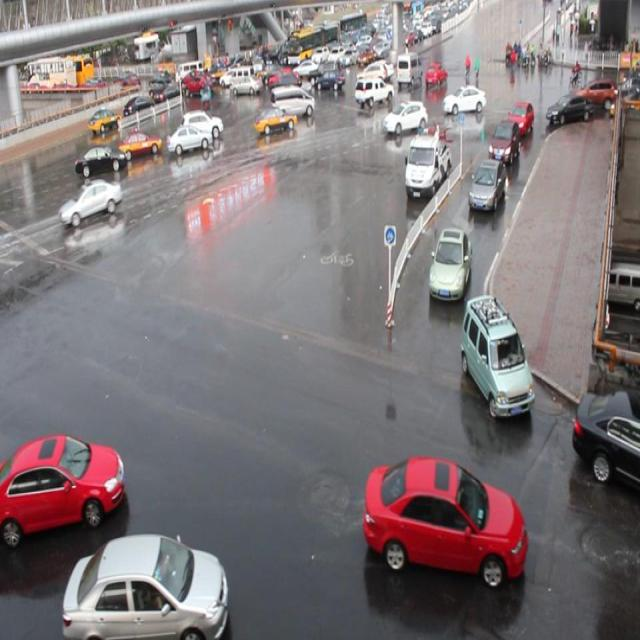bus: (403, 129, 450, 202)
car: (362, 453, 527, 585), (62, 531, 228, 640), (0, 432, 124, 540), (459, 294, 534, 416), (569, 388, 640, 493), (428, 225, 472, 300), (59, 178, 122, 226), (467, 156, 505, 211), (73, 144, 128, 177), (442, 85, 487, 118), (384, 99, 426, 134), (166, 125, 213, 156), (487, 120, 519, 164), (119, 129, 162, 160), (181, 110, 224, 139), (253, 107, 297, 135), (354, 76, 394, 105), (506, 100, 533, 138)
truck: (268, 84, 314, 120)
